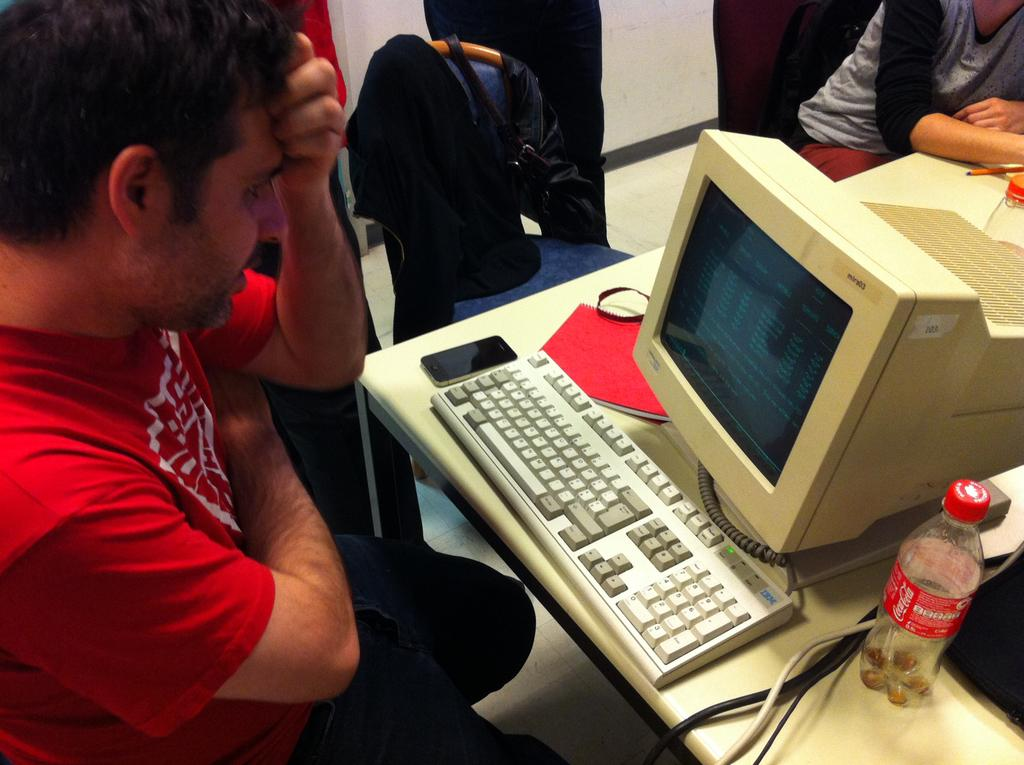Computer-keyboard: (428, 348, 798, 684)
